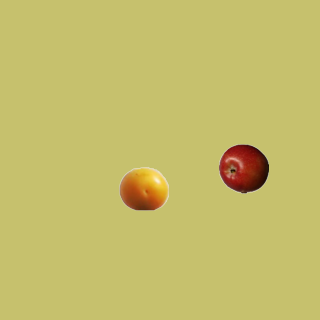Apple Braeburn: (218, 143, 268, 193)
Cherry Wax Yellow: (118, 163, 168, 213)
